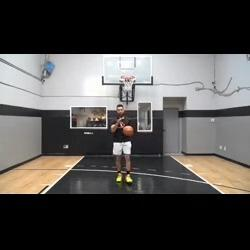BasketBall: (121, 124, 134, 137)
Player: (107, 102, 136, 185)
